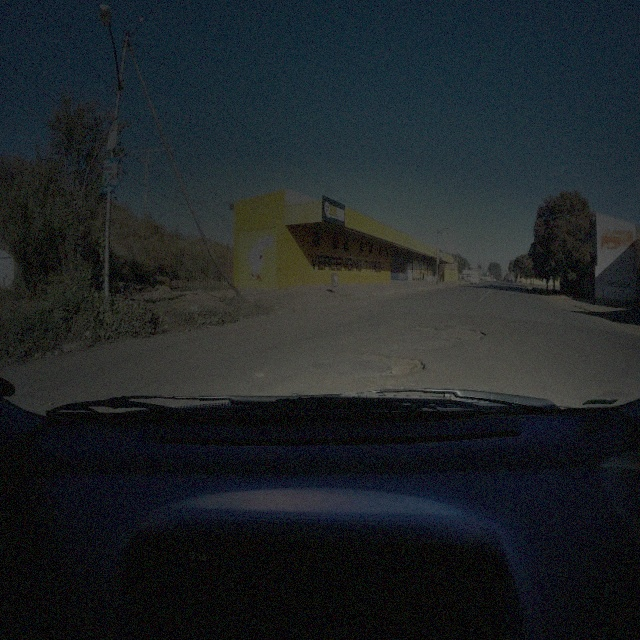pothole: (358, 350, 428, 379), (441, 326, 486, 344), (408, 322, 438, 333)
